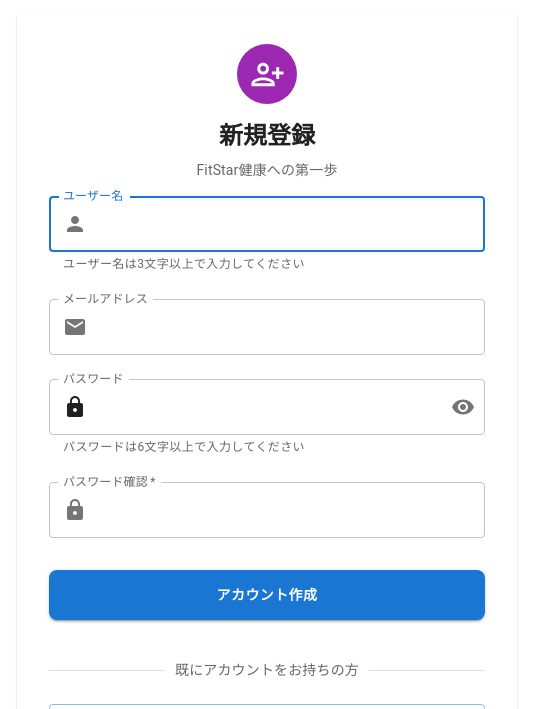
Test: Register Component › ⚠️ 必須項目が未入力の場合、適切なバリデーションエラーが表示される
The image size is (535, 709).
Click the button "アカウント作成" at (267,595), box [49,570,485,620]
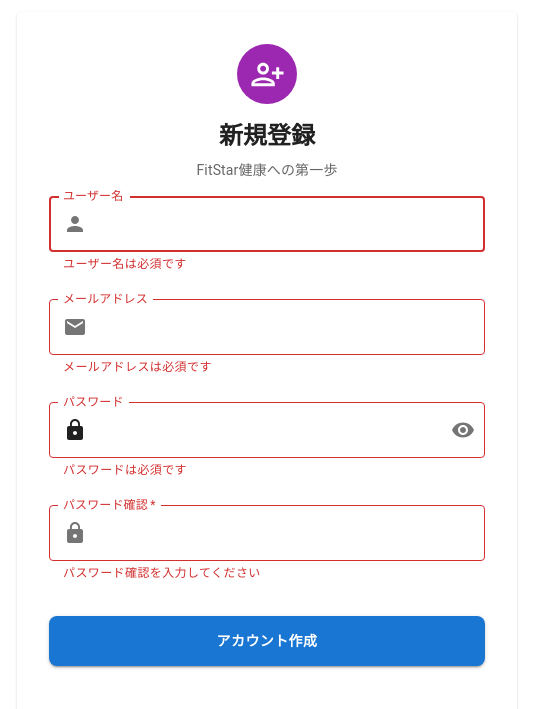
Expected: the text "ユーザー名は必須です" is shown, [63,257,187,271]
Expected: the text "メールアドレスは必須です" is shown, [63,360,212,374]
Expected: the text "パスワードは必須です" is shown, [63,463,187,477]
